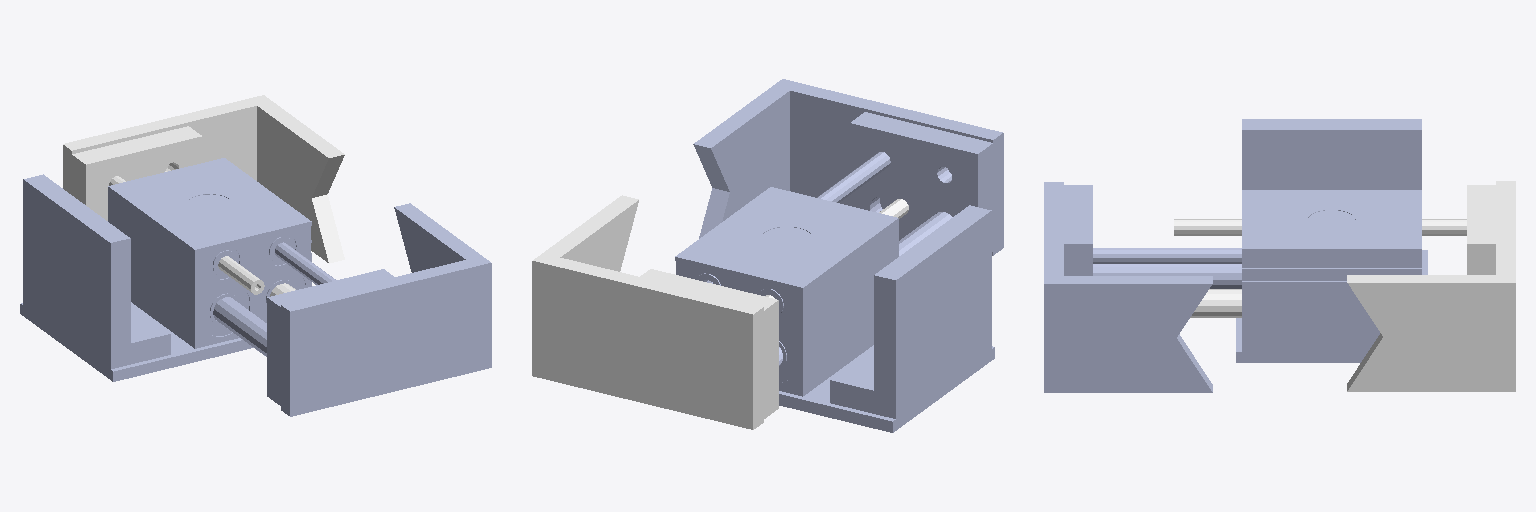
The robot description file, URDF, robot "kuka_kr16_2":
<?xml version="1.0" ?>
<!-- =================================================================================== -->
<!-- |    This document was autogenerated by xacro from kuka_kr16.xacro                | -->
<!-- |    EDITING THIS FILE BY HAND IS NOT RECOMMENDED                                 | -->
<!-- =================================================================================== -->
<!--Generates a urdf from the macro in kr16_2_macro.xacro -->
<robot name="kuka_kr16_2">
  <!-- LINKS -->
  <!-- base link -->
  <link name="base_link">
    <inertial>
      <origin rpy="0 0 0" xyz="0 0 0"/>
      <mass value="2"/>
      <inertia ixx="0.01" ixy="0" ixz="0" iyy="0.01" iyz="0" izz="0.01"/>
    </inertial>
    <visual>
      <origin rpy="0 0 0" xyz="0 0 0"/>
      <geometry>
        <mesh filename="package://kuka_kr16_support/meshes/kr16_2/visual/base_link.dae"/>
      </geometry>
    </visual>
    <collision>
      <origin rpy="0 0 0" xyz="0 0 0"/>
      <geometry>
        <mesh filename="package://kuka_kr16_support/meshes/kr16_2/collision/base_link.stl"/>
      </geometry>
    </collision>
  </link>
  <!-- link 1 (A1) -->
  <link name="link_1">
    <inertial>
      <origin rpy="0 0 0" xyz="0 0 0"/>
      <mass value="2"/>
      <inertia ixx="0.01" ixy="0" ixz="0" iyy="0.01" iyz="0" izz="0.01"/>
    </inertial>
    <visual>
      <origin rpy="0 0 0" xyz="0 0 0"/>
      <geometry>
        <mesh filename="package://kuka_kr16_support/meshes/kr16_2/visual/link_1.dae"/>
      </geometry>
    </visual>
    <collision>
      <origin rpy="0 0 0" xyz="0 0 0"/>
      <geometry>
        <mesh filename="package://kuka_kr16_support/meshes/kr16_2/collision/link_1.stl"/>
      </geometry>
    </collision>
  </link>
  <!-- link 2 -->
  <link name="link_2">
    <inertial>
      <origin rpy="0 0 0" xyz="0 0 0"/>
      <mass value="2"/>
      <inertia ixx="0.01" ixy="0" ixz="0" iyy="0.01" iyz="0" izz="0.01"/>
    </inertial>
    <visual>
      <origin rpy="0 0 0" xyz="0 0 0"/>
      <geometry>
        <mesh filename="package://kuka_kr16_support/meshes/kr16_2/visual/link_2.dae"/>
      </geometry>
    </visual>
    <collision>
      <origin rpy="0 0 0" xyz="0 0 0"/>
      <geometry>
        <mesh filename="package://kuka_kr16_support/meshes/kr16_2/collision/link_2.stl"/>
      </geometry>
    </collision>
  </link>
  <!-- link 3 -->
  <link name="link_3">
    <inertial>
      <origin rpy="0 0 0" xyz="0 0 0"/>
      <mass value="2"/>
      <inertia ixx="0.01" ixy="0" ixz="0" iyy="0.01" iyz="0" izz="0.01"/>
    </inertial>
    <visual>
      <origin rpy="0 0 0" xyz="0 0 0"/>
      <geometry>
        <mesh filename="package://kuka_kr16_support/meshes/kr16_2/visual/link_3.dae"/>
      </geometry>
    </visual>
    <collision>
      <origin rpy="0 0 0" xyz="0 0 0"/>
      <geometry>
        <mesh filename="package://kuka_kr16_support/meshes/kr16_2/collision/link_3.stl"/>
      </geometry>
    </collision>
  </link>
  <!-- link 4 -->
  <link name="link_4">
    <inertial>
      <origin rpy="0 0 0" xyz="0 0 0"/>
      <mass value="2"/>
      <inertia ixx="0.01" ixy="0" ixz="0" iyy="0.01" iyz="0" izz="0.01"/>
    </inertial>
    <visual>
      <origin rpy="0 0 0" xyz="0 0 0"/>
      <geometry>
        <mesh filename="package://kuka_kr16_support/meshes/kr16_2/visual/link_4.dae"/>
      </geometry>
    </visual>
    <collision>
      <origin rpy="0 0 0" xyz="0 0 0"/>
      <geometry>
        <mesh filename="package://kuka_kr16_support/meshes/kr16_2/collision/link_4.stl"/>
      </geometry>
    </collision>
  </link>
  <!-- link 5 -->
  <link name="link_5">
    <inertial>
      <origin rpy="0 0 0" xyz="0 0 0"/>
      <mass value="2"/>
      <inertia ixx="0.01" ixy="0" ixz="0" iyy="0.01" iyz="0" izz="0.01"/>
    </inertial>
    <visual>
      <origin rpy="0 0 0" xyz="0 0 0"/>
      <geometry>
        <mesh filename="package://kuka_kr16_support/meshes/kr16_2/visual/link_5.dae"/>
      </geometry>
    </visual>
    <collision>
      <origin rpy="0 0 0" xyz="0 0 0"/>
      <geometry>
        <mesh filename="package://kuka_kr16_support/meshes/kr16_2/collision/link_5.stl"/>
      </geometry>
    </collision>
  </link>
  <!-- link 6 -->
  <link name="link_6">
    <inertial>
      <origin rpy="0 0 0" xyz="0 0 0"/>
      <mass value="2"/>
      <inertia ixx="0.01" ixy="0" ixz="0" iyy="0.01" iyz="0" izz="0.01"/>
    </inertial>
    <visual>
      <origin rpy="0 0 0" xyz="0 0 0"/>
      <geometry>
        <mesh filename="package://kuka_kr16_support/meshes/kr16_2/visual/link_6.dae"/>
      </geometry>
    </visual>
    <collision>
      <origin rpy="0 0 0" xyz="0 0 0"/>
      <geometry>
        <mesh filename="package://kuka_kr16_support/meshes/kr16_2/collision/link_6.stl"/>
      </geometry>
    </collision>
  </link>
  <!-- END LINKS -->
  <!-- Gripper -->
  <link name="gripper_head">
    <inertial>
      <origin rpy="0 0 1" xyz="0 0 0"/>
      <mass value="0.28035"/>
      <inertia ixx="0.00014443" ixy="1.7236E-19" ixz="-2.9302E-19" iyy="0.00018897" iyz="-4.4473E-06" izz="0.00022213"/>
    </inertial>
    <visual>
      <origin rpy="0 0 0" xyz="0 0 0"/>
      <geometry>
        <mesh filename="package://kuka_kr16_support/meshes/kr16_2/gripper_meshes/gripper_head.STL"/>
      </geometry>
      <material name="">
        <color rgba="0.79216 0.81961 0.93333 1"/>
      </material>
    </visual>
    <collision>
      <origin rpy="0 0 0" xyz="0 0 0"/>
      <geometry>
        <mesh filename="package://kuka_kr16_support/meshes/kr16_2/gripper_meshes/gripper_head.STL"/>
      </geometry>
    </collision>
  </link>
  <link name="left_gripper">
    <inertial>
      <origin rpy="0 0 0" xyz="-0.11646 0.1195 0.12004"/>
      <mass value="0.11153"/>
      <inertia ixx="5.3953E-05" ixy="7.1686E-21" ixz="2.8367E-08" iyy="5.4685E-05" iyz="-1.7278E-19" izz="7.0559E-05"/>
    </inertial>
    <visual>
      <origin rpy="0 0 0" xyz="0 0 0"/>
      <geometry>
        <mesh filename="package://kuka_kr16_support/meshes/kr16_2/gripper_meshes/left_gripper.STL"/>
      </geometry>
      <material name="">
        <color rgba="0.79216 0.81961 0.93333 1"/>
      </material>
    </visual>
    <collision>
      <origin rpy="0 0 0" xyz="0 0 0"/>
      <geometry>
        <mesh filename="package://kuka_kr16_support/meshes/kr16_2/gripper_meshes/left_gripper.STL"/>
      </geometry>
    </collision>
  </link>
  <joint name="left_gripper_joint" type="prismatic">
    <origin rpy="1.5708 0 0" xyz="0.043422 0.03339 -0.025068"/>
    <parent link="gripper_head"/>
    <child link="left_gripper"/>
    <axis xyz="1 0 0"/>
    <limit effort="0" lower="0" upper="-0.043" velocity="0"/>
  </joint>
  <link name="right_gripper">
    <inertial>
      <origin rpy="0 0 0" xyz="0 0 0"/>
      <mass value="0"/>
      <inertia ixx="0" ixy="0" ixz="0" iyy="0" iyz="0" izz="0"/>
    </inertial>
    <visual>
      <origin rpy="0 0 0" xyz="0 0 0"/>
      <geometry>
        <mesh filename="package://kuka_kr16_support/meshes/kr16_2/gripper_meshes/right_gripper.STL"/>
      </geometry>
      <material name="">
        <color rgba="1 1 1 1"/>
      </material>
    </visual>
    <collision>
      <origin rpy="0 0 0" xyz="0 0 0"/>
      <geometry>
        <mesh filename="package://kuka_kr16_support/meshes/kr16_2/gripper_meshes/right_gripper.STL"/>
      </geometry>
    </collision>
  </link>
  <joint name="right_gripper_joint" type="prismatic">
    <origin rpy="1.5708 0 0" xyz="-0.044578 0.03339 -0.025068"/>
    <parent link="gripper_head"/>
    <child link="right_gripper"/>
    <axis xyz="1 0 0"/>
    <limit effort="0" lower="0.043" upper="0" velocity="0"/>
  </joint>
  <!-- JOINTS -->
  <!-- joint 1 (A1) -->
  <joint name="joint_a1" type="revolute">
    <origin rpy="0 0 0" xyz="0 0 0.675"/>
    <parent link="base_link"/>
    <child link="link_1"/>
    <axis xyz="0 0 -1"/>
    <limit effort="0" lower="-3.2288591161895095" upper="3.2288591161895095" velocity="2.722713633111154"/>
  </joint>
  <!-- joint 2 (A2) -->
  <joint name="joint_a2" type="revolute">
    <origin rpy="0 0 0" xyz="0.26 0 0"/>
    <parent link="link_1"/>
    <child link="link_2"/>
    <axis xyz="0 1 0"/>
    <limit effort="0" lower="-2.705260340591211" upper="0.6108652381980153" velocity="2.722713633111154"/>
  </joint>
  <!-- joint 3 (A3) -->
  <joint name="joint_a3" type="revolute">
    <origin rpy="0 0 0" xyz="0.68 0 0"/>
    <parent link="link_2"/>
    <child link="link_3"/>
    <axis xyz="0 1 0"/>
    <limit effort="0" lower="-2.2689280275926285" upper="2.6878070480712677" velocity="2.722713633111154"/>
  </joint>
  <!-- joint 4 (A4) -->
  <joint name="joint_a4" type="revolute">
    <origin rpy="0 0 0" xyz="0.67 0 -0.035"/>
    <parent link="link_3"/>
    <child link="link_4"/>
    <axis xyz="-1 0 0"/>
    <limit effort="0" lower="-6.1086523819801535" upper="6.1086523819801535" velocity="5.759586531581287"/>
  </joint>
  <!-- joint 5 (A5) -->
  <joint name="joint_a5" type="revolute">
    <origin rpy="0 0 0" xyz="0 0 0"/>
    <parent link="link_4"/>
    <child link="link_5"/>
    <axis xyz="0 1 0"/>
    <limit effort="0" lower="-2.2689280275926285" upper="2.2689280275926285" velocity="5.759586531581287"/>
  </joint>
  <!-- joint 6 (A6) -->
  <joint name="joint_a6" type="revolute">
    <origin rpy="0 0 0" xyz="0 0 0"/>
    <parent link="link_5"/>
    <child link="link_6"/>
    <axis xyz="-1 0 0"/>
    <limit effort="0" lower="-6.1086523819801535" upper="6.1086523819801535" velocity="10.733774899765127"/>
  </joint>
  <!-- tool frame - fixed frame -->
  <joint name="end_effector" type="fixed">
    <parent link="link_6"/>
    <child link="gripper_head"/>
    <origin rpy="1.570796327 0 1.570796327" xyz="0.15 -0.02 0.09"/>
  </joint>
  <!-- END JOINTS -->
  <!-- ROS base_link to KUKA $ROBROOT coordinate system transform -->
  <link name="base_footlink"/>
  <joint name="fixed_base_joint" type="fixed">
    <origin rpy="0 0 0" xyz="0 0 0"/>
    <parent link="base_footlink"/>
    <child link="base_link"/>
    <origin rpy="0 0 0" xyz="0 0 0"/>
  </joint>
</robot>

--- Render facts (derived) ---
Views: 3 orthographic renders of the robot side by side, from view 1: azimuth 30°, elevation 25°; view 2: azimuth 150°, elevation 25°; view 3: azimuth 270°, elevation 25°.
Model kuka_kr16_2 with 11 links and 10 joints (6 revolute, 2 prismatic, 2 fixed), rooted at base_footlink, posed all joints at 0.
Visible links, largest first — view 1: gripper_head, left_gripper, right_gripper; view 2: gripper_head, right_gripper, left_gripper; view 3: gripper_head, left_gripper, right_gripper.
Boxes of the visible links, x1,y1,x2,y2 form: gripper_head: (20, 158, 311, 381); left_gripper: (213, 203, 491, 416); right_gripper: (63, 95, 344, 296); gripper_head: (675, 187, 994, 432); right_gripper: (532, 195, 908, 429); left_gripper: (693, 79, 1003, 346); gripper_head: (1236, 119, 1427, 362); left_gripper: (1044, 182, 1241, 392); right_gripper: (1174, 181, 1515, 391).
Size in the robot's own frame: 0.142 by 0.196 by 0.065 metres.
3 mesh visuals loaded from 10 distinct referenced files (3 binary STL); not drawn: 7 (reference not matched to a file when rendering).